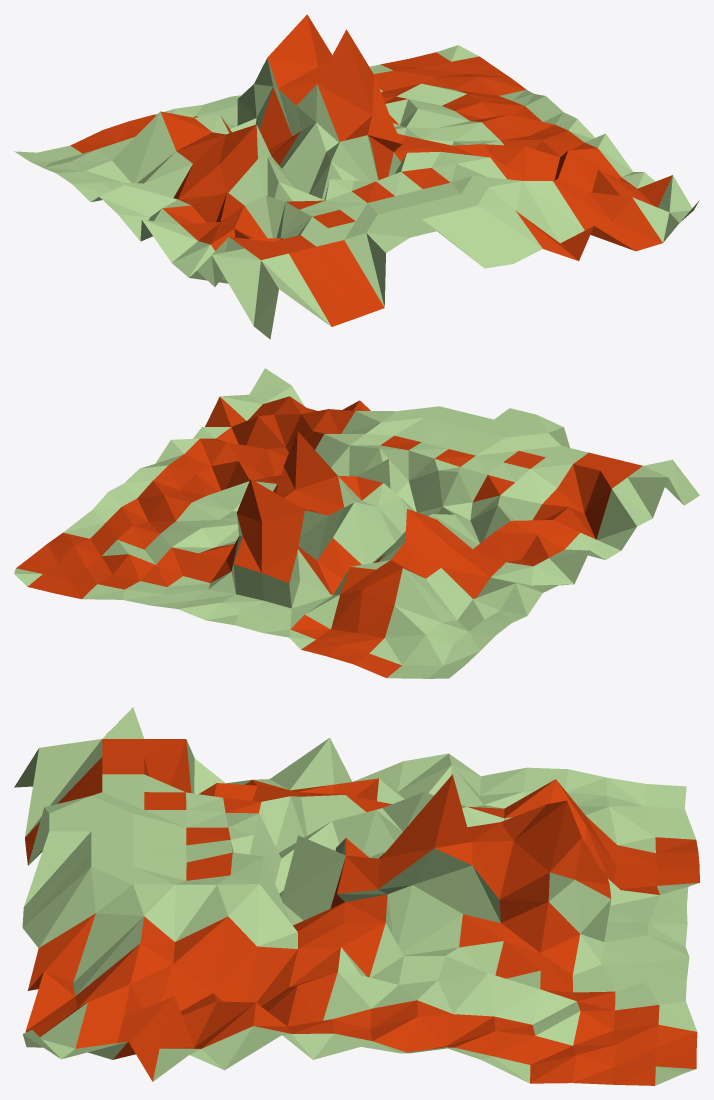
3 views of the same model, one above another, from view 1: azimuth 30°, elevation 25°; view 2: azimuth 150°, elevation 25°; view 3: azimuth 270°, elevation 25° (orthographic). The views are drawn at different scales.
Parts seen in each view (by area): view 1: Plane; view 2: Plane; view 3: Plane.
Boxes of the visible parts, left/top/right/bottom form: Plane: left=14, top=14, right=699, bottom=339; Plane: left=14, top=368, right=699, bottom=678; Plane: left=14, top=707, right=699, bottom=1085.
Bounding box in the file's own units: 1776 × 507 × 1722.
